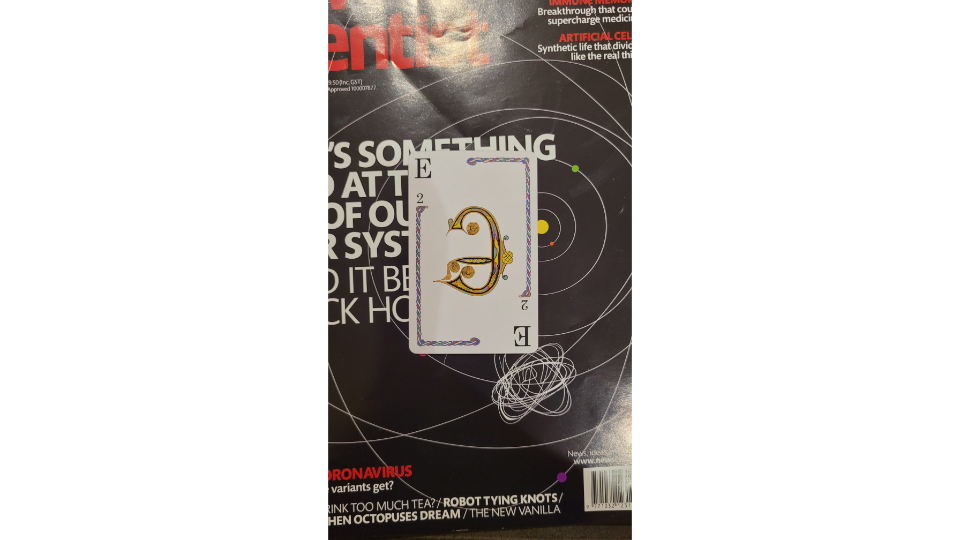E: (404, 146, 543, 356)
